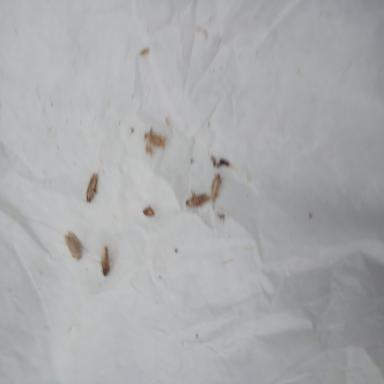pbw: (62, 229, 82, 259), (143, 127, 167, 148), (185, 188, 208, 207), (86, 172, 98, 203), (210, 171, 220, 203), (100, 243, 110, 275)
